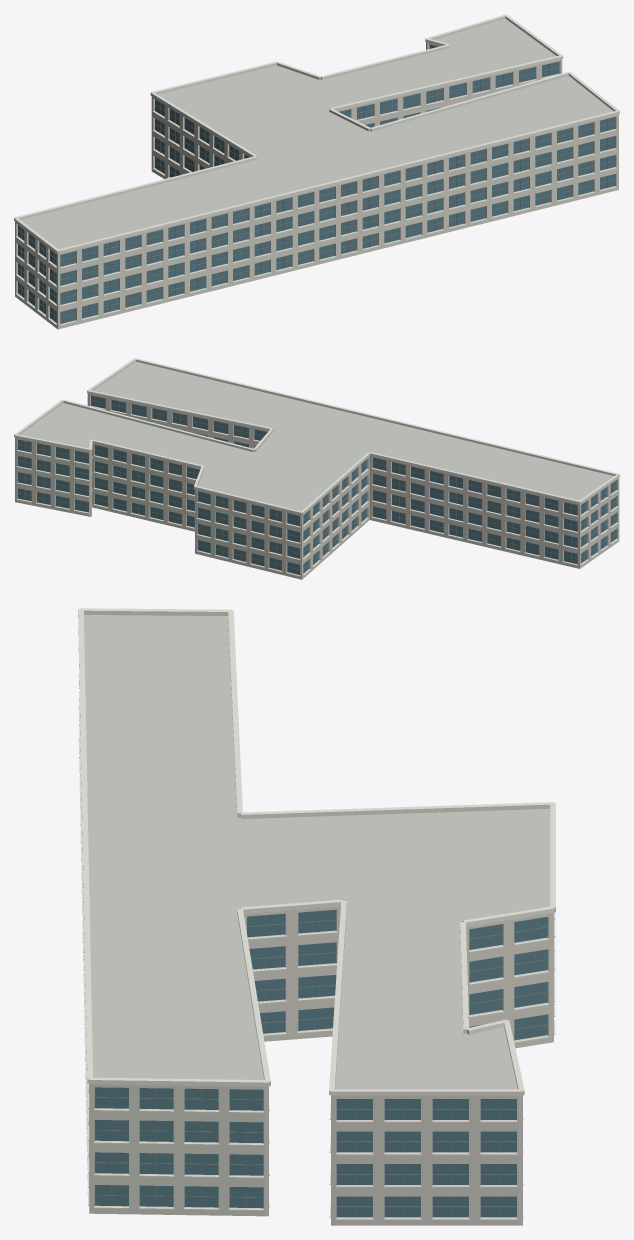
3 views of the same model, one above another, from view 1: azimuth 30°, elevation 25°; view 2: azimuth 150°, elevation 25°; view 3: azimuth 270°, elevation 25° (orthographic). The views are drawn at different scales.
Visible parts, largest first — view 1: roof, wall, glass, trim, metal; view 2: roof, wall, glass, trim, metal; view 3: roof, glass, wall, trim, metal.
Part boxes in pixels (x1,y1,x2,y2): roof: (21,18,613,249); wall: (15,42,618,329); glass: (18,44,615,323); trim: (14,14,619,325); metal: (18,64,615,321); roof: (20,361,613,511); wall: (15,393,619,579); glass: (17,395,616,574); trim: (14,358,619,576); metal: (18,397,616,573); roof: (84,615,550,1089); glass: (95,910,547,1217); wall: (88,906,553,1225); trim: (78,608,555,1220); metal: (95,911,547,1217).
Size of the model in its own units: 100 by 13.04 by 41.96.
